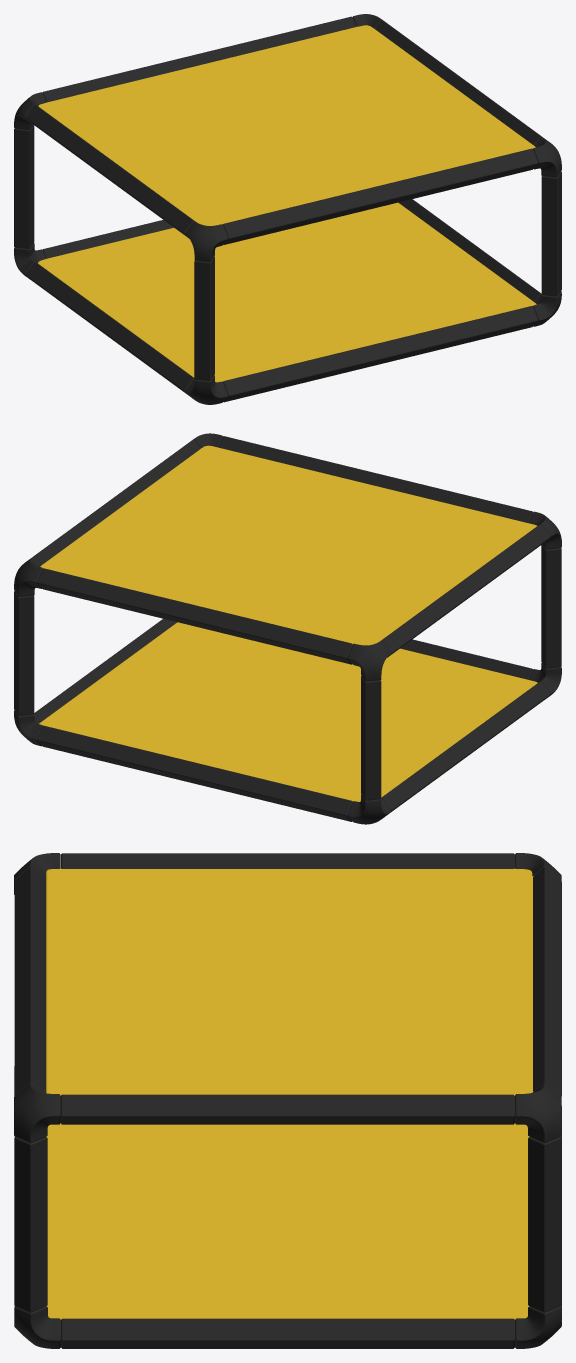
The picture shows the model from 3 angles, top to bottom: view 1: azimuth 30°, elevation 25°; view 2: azimuth 150°, elevation 25°; view 3: azimuth 270°, elevation 25°; orthographic projection. The views are drawn at different scales.
Parts seen in each view (by area): view 1: 420x374x154; view 2: 420x374x154; view 3: 420x374x154.
Boxes of the visible parts, x1,y1,x2,y2 form: 420x374x154: [14, 14, 561, 404]; 420x374x154: [14, 433, 561, 824]; 420x374x154: [14, 853, 561, 1348].
Bounding box in the file's own units: 0.4977 × 0.2316 × 0.4513.
